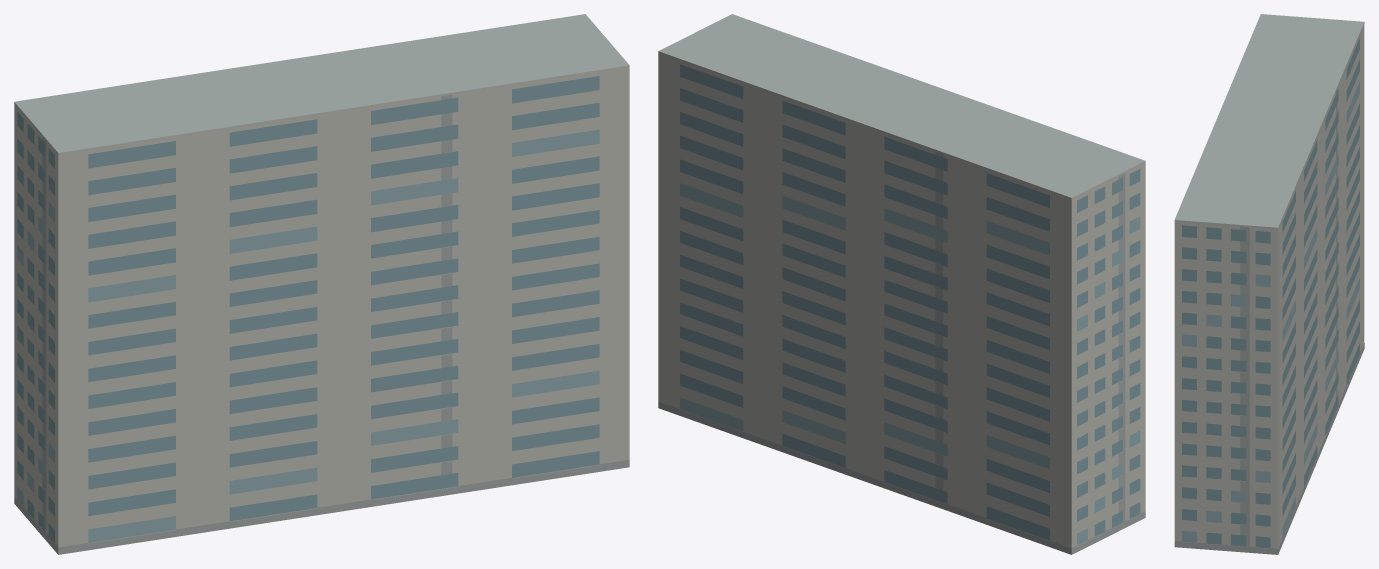
The model's file is residential-8eb1fa3f-c26b-4b3b-8485-6a63a1422b2d.glb.
3 views of the same model, side by side, from view 1: azimuth 30°, elevation 25°; view 2: azimuth 150°, elevation 25°; view 3: azimuth 270°, elevation 25° (orthographic). The views are drawn at different scales.
Parts seen in each view (by area): view 1: residential-8eb1fa3f-c26b-4b3b-8485-6a63a1422b2d.tmp; view 2: residential-8eb1fa3f-c26b-4b3b-8485-6a63a1422b2d.tmp; view 3: residential-8eb1fa3f-c26b-4b3b-8485-6a63a1422b2d.tmp.
Boxes of the visible parts, left/top/right/bottom form: residential-8eb1fa3f-c26b-4b3b-8485-6a63a1422b2d.tmp: left=14, top=14, right=629, bottom=554; residential-8eb1fa3f-c26b-4b3b-8485-6a63a1422b2d.tmp: left=658, top=14, right=1145, bottom=554; residential-8eb1fa3f-c26b-4b3b-8485-6a63a1422b2d.tmp: left=1174, top=14, right=1364, bottom=554.
Size of the model in its own units: 64.09 by 45.75 by 24.08.
